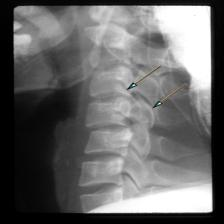fracture-dislocation: (12, 6, 217, 216)
